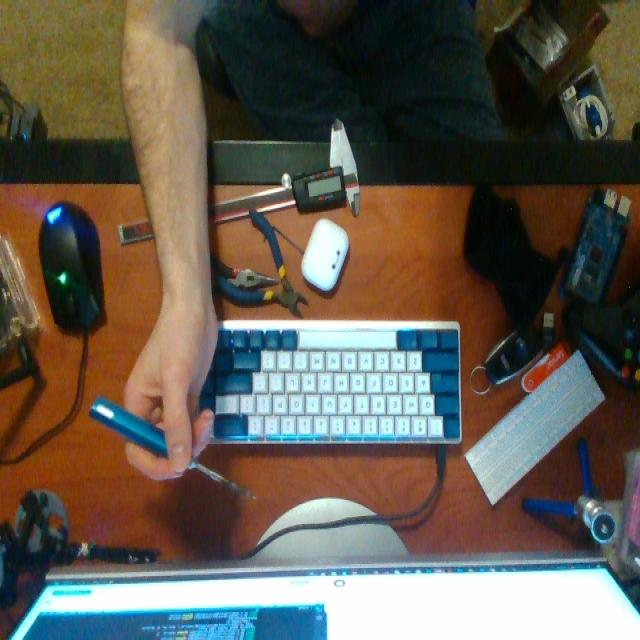keyboard-with-hands: (191, 323, 460, 441)
